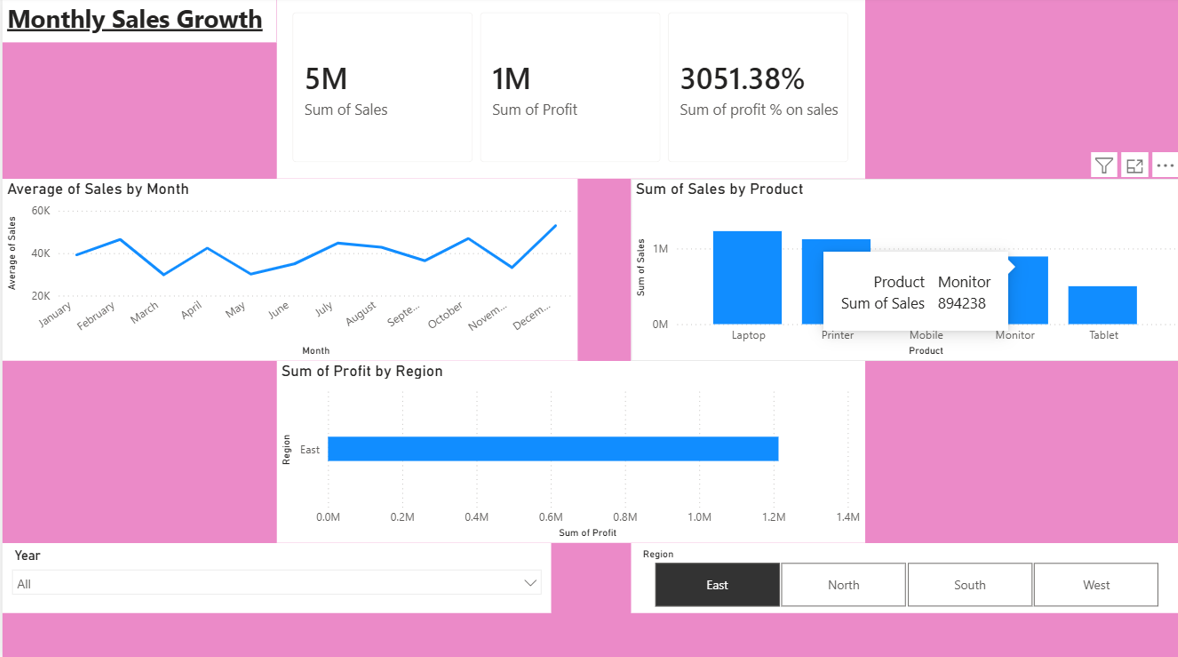

The page's visual inventory and layout, read from the dashboard file:
{"tool":"powerbi","page":{"name":"Page 1","canvas":[1280,720],"ordinal":0},"visuals":[{"type":"cardVisual","fields":{"Data":["Sum(salesdb sales_cleaned.Sales)","Sum(salesdb sales_cleaned.Profit)","Sum(salesdb sales_cleaned.profit % on sales)"]},"box":[298,0,639.4,197.9],"z":0},{"type":"lineChart","fields":{"Y":["Avg(salesdb sales_cleaned.Sales)"],"Category":["salesdb sales_cleaned.Order_Date.Variation.Date Hierarchy.Month"]},"box":[0,197.9,624.9,197.9],"z":1000},{"type":"barChart","fields":{"Category":["salesdb sales_cleaned.Region"],"Y":["Sum(salesdb sales_cleaned.Profit)"]},"box":[298,395.7,639.4,197.9],"z":2000},{"type":"columnChart","fields":{"Category":["salesdb sales_cleaned.Product"],"Y":["Sum(salesdb sales_cleaned.Sales)"]},"box":[682.8,197.9,596,197.9],"z":3000},{"type":"slicer","fields":{"Values":["salesdb sales_cleaned.Year"]},"box":[0,593.6,596,76],"z":4000},{"type":"slicer","fields":{"Values":["salesdb sales_cleaned.Region"]},"box":[682.8,593.6,597.2,76],"z":5000},{"type":"textbox","box":[0,0,298,49.5],"z":5001}]}

Visuals, with their boxes in screenshot pixels (x1, y1, x2, y2), scaled from the page's 1280x720 canvas onto the 1178x657 screenshot:
cardVisual - Sum(salesdb sales_cleaned.Sales) x Sum(salesdb sales_cleaned.Profit): [274,0,863,181]
lineChart - Avg(salesdb sales_cleaned.Sales) x salesdb sales_cleaned.Order_Date.Variation.Date Hierarchy.Month: [0,181,575,361]
barChart - salesdb sales_cleaned.Region x Sum(salesdb sales_cleaned.Profit): [274,361,863,542]
columnChart - salesdb sales_cleaned.Product x Sum(salesdb sales_cleaned.Sales): [628,181,1177,361]
slicer - salesdb sales_cleaned.Year: [0,542,549,611]
slicer - salesdb sales_cleaned.Region: [628,542,1177,611]
textbox: [0,0,274,45]
